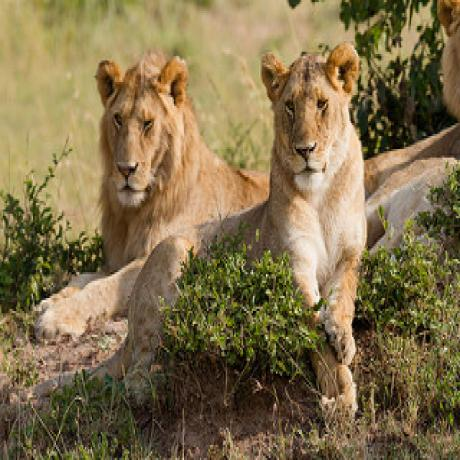Lion: (238, 37, 366, 423), (91, 53, 210, 345)
